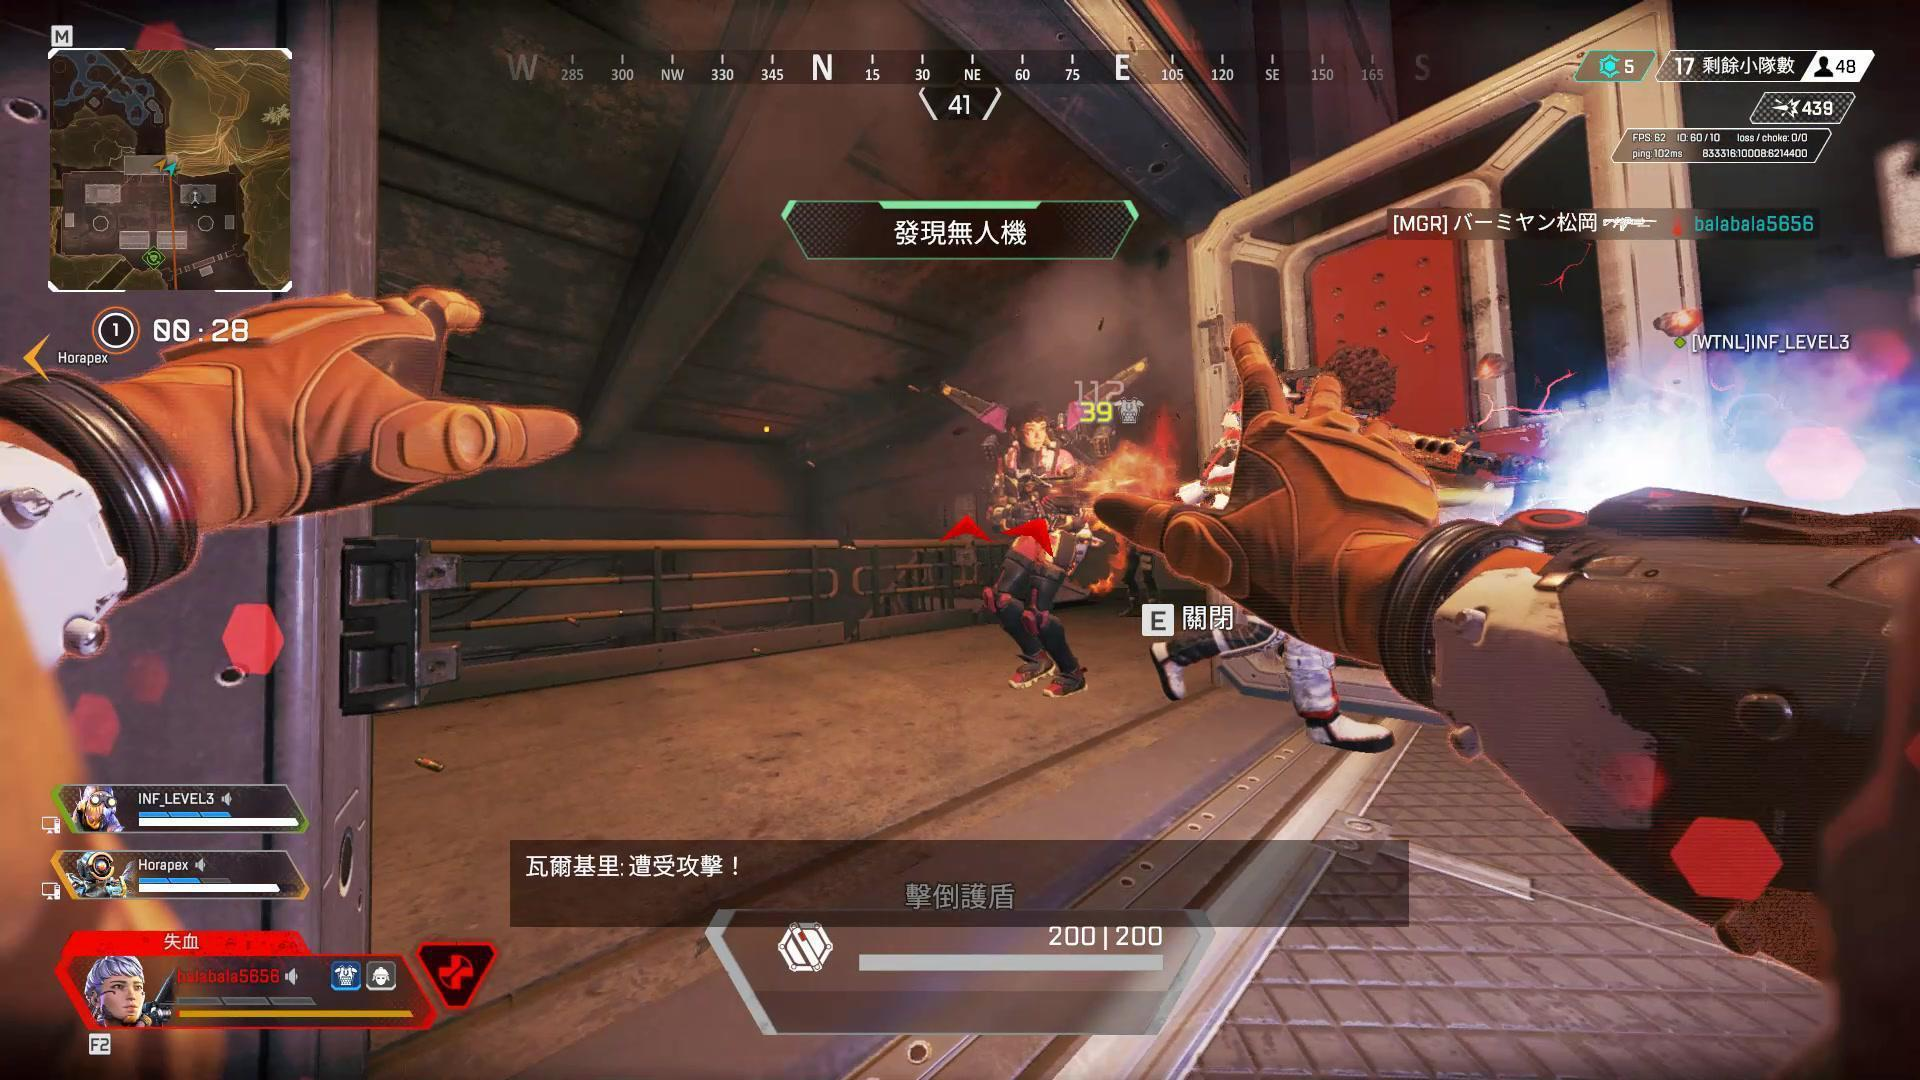avatar: (986, 403, 1096, 700)
